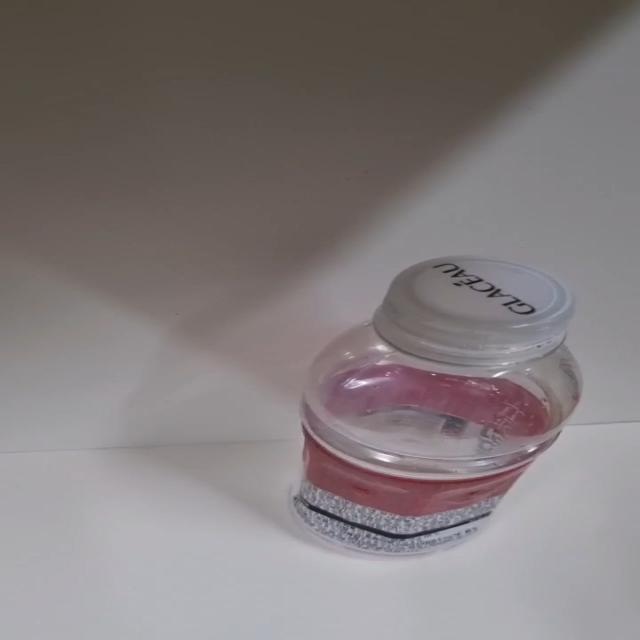Plastic: (290, 256, 583, 562)
